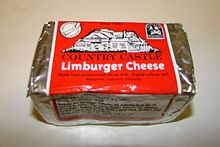cheese: (30, 10, 196, 122)
